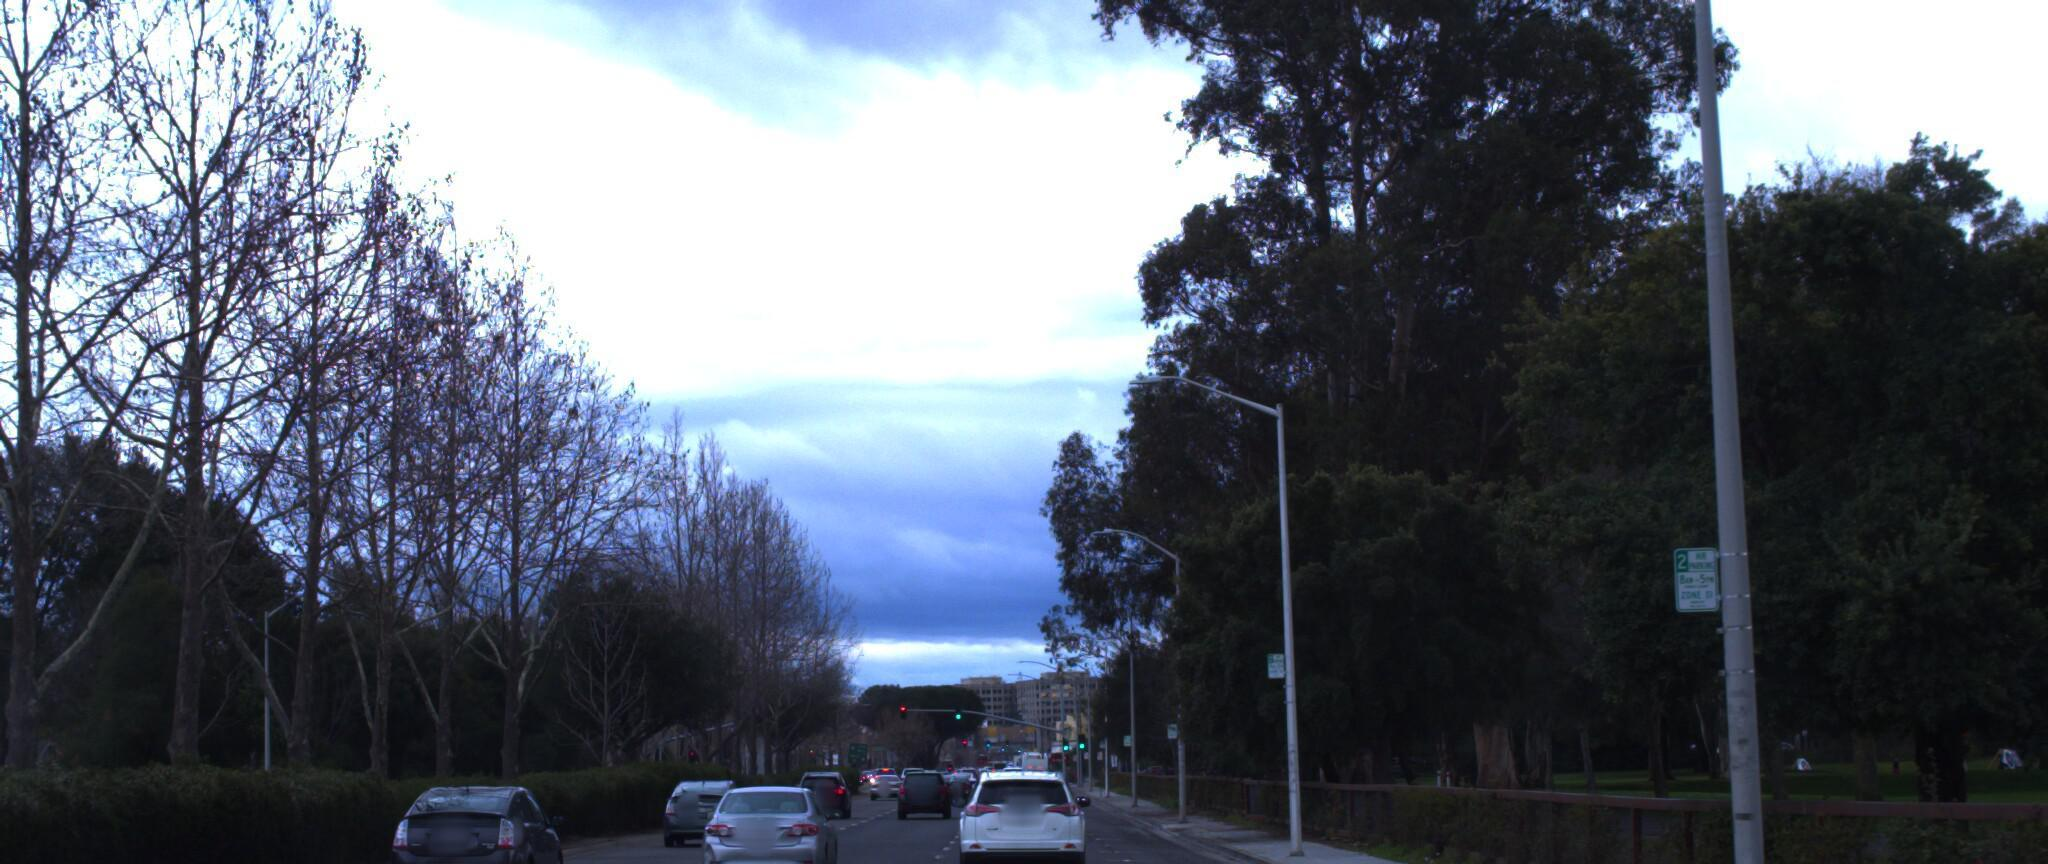car: (375, 778, 559, 864), (947, 764, 1078, 864), (684, 782, 833, 864)
